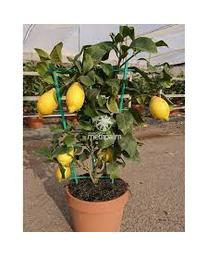lemon: (66, 79, 85, 114), (37, 90, 58, 118), (149, 96, 170, 120)
